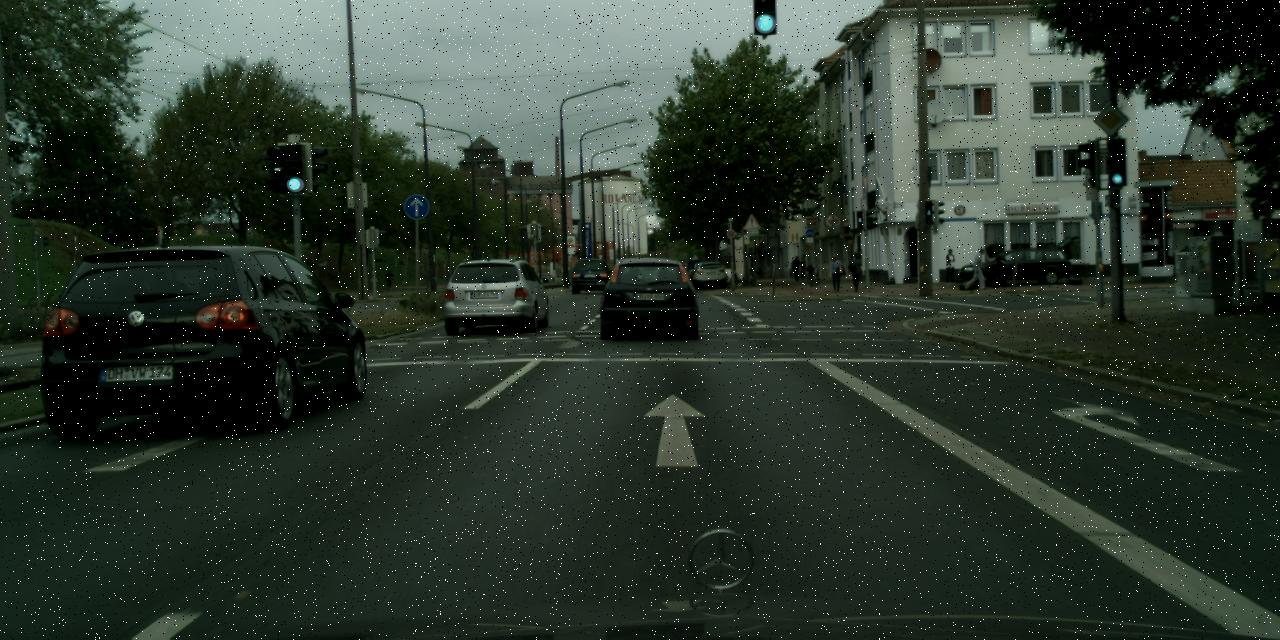ped: (970, 248, 986, 288), (848, 252, 864, 290), (942, 248, 958, 284), (828, 255, 842, 291), (992, 252, 1006, 286), (791, 255, 801, 281), (385, 270, 392, 288)
